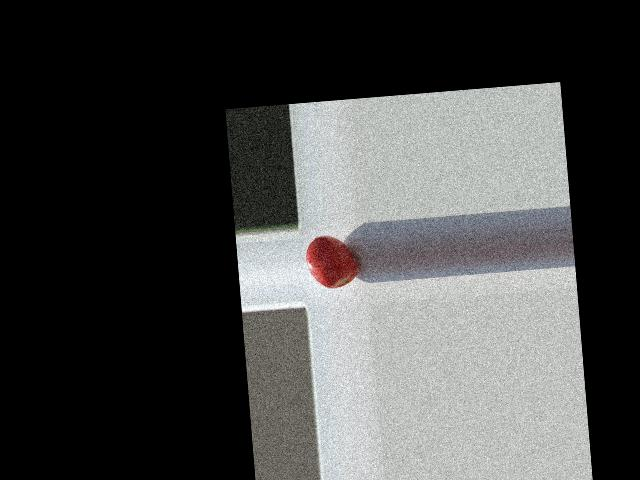tomato: (304, 233, 358, 290)
